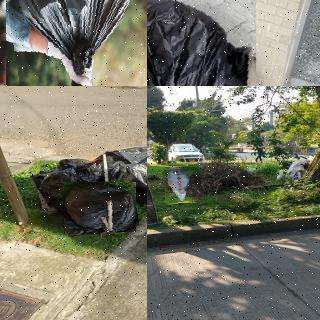Garbage: (0, 0, 147, 86), (147, 0, 262, 86), (63, 180, 138, 235), (31, 157, 101, 213), (98, 146, 147, 210), (164, 166, 202, 204), (288, 157, 310, 179)
